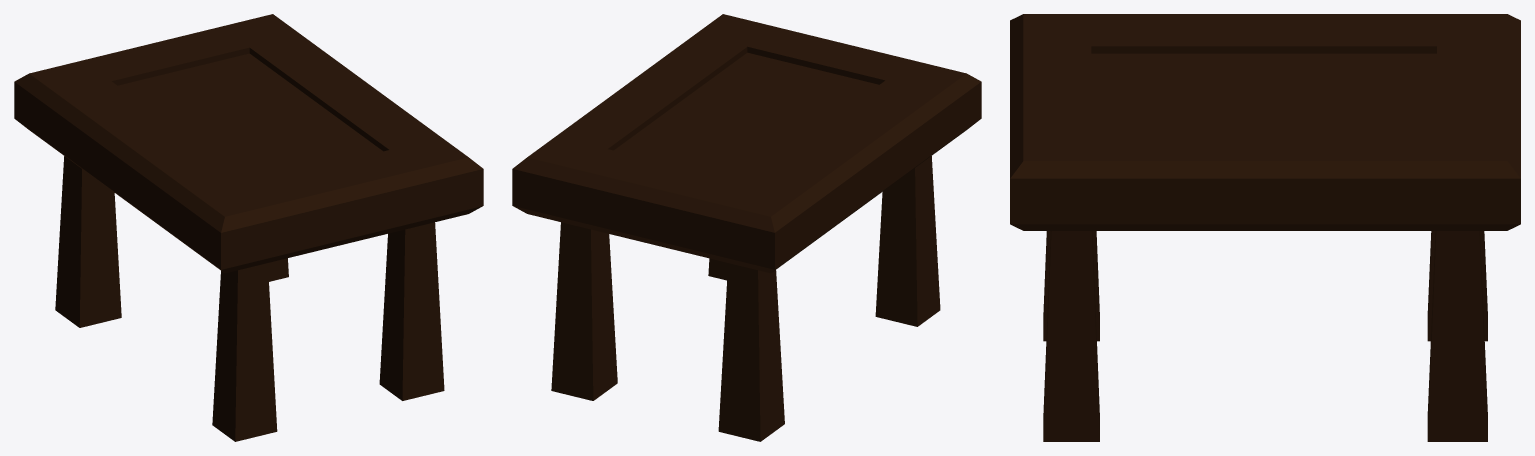
File: Table.FBX
The picture shows the model from 3 angles, left to right: view 1: azimuth 30°, elevation 25°; view 2: azimuth 150°, elevation 25°; view 3: azimuth 270°, elevation 25°; orthographic projection. The views are drawn at different scales.
Visible parts, largest first — view 1: Table; view 2: Table; view 3: Table.
Part boxes in pixels (x1,y1,x2,y2): Table: (14,14,483,441); Table: (512,14,981,441); Table: (1010,14,1520,441).
Bounding box in the file's own units: 29.74 × 25.48 × 40.56.
